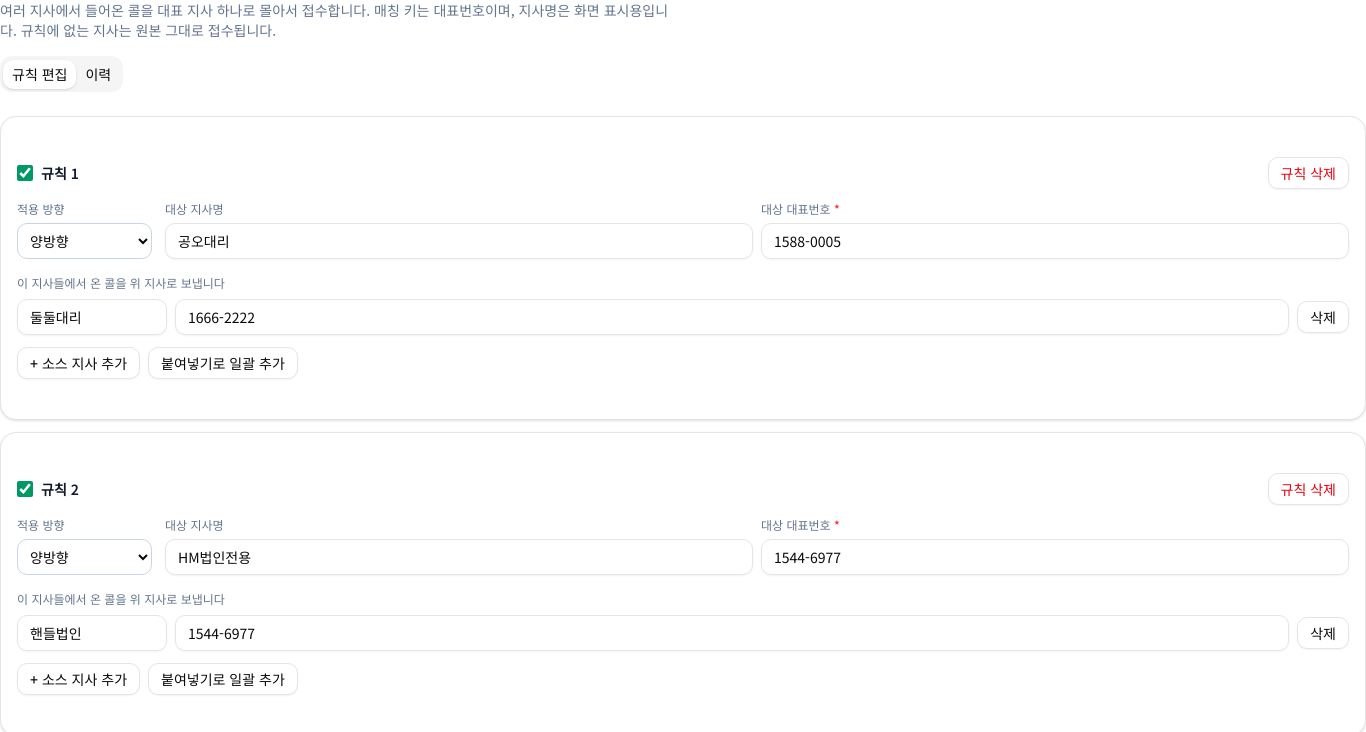
it: JisamapPage — 지사 관리자 › 규칙 간 소스 번호가 겹치면 오류를 띄우고 저장을 막는다
This screenshot has width=1366, height=732.
Replace the text in the field named "규칙 2 소스 1 번호" with "1666-2222". click: (732, 633)
box: 175,615 -> 1289,651
(page scrolled)
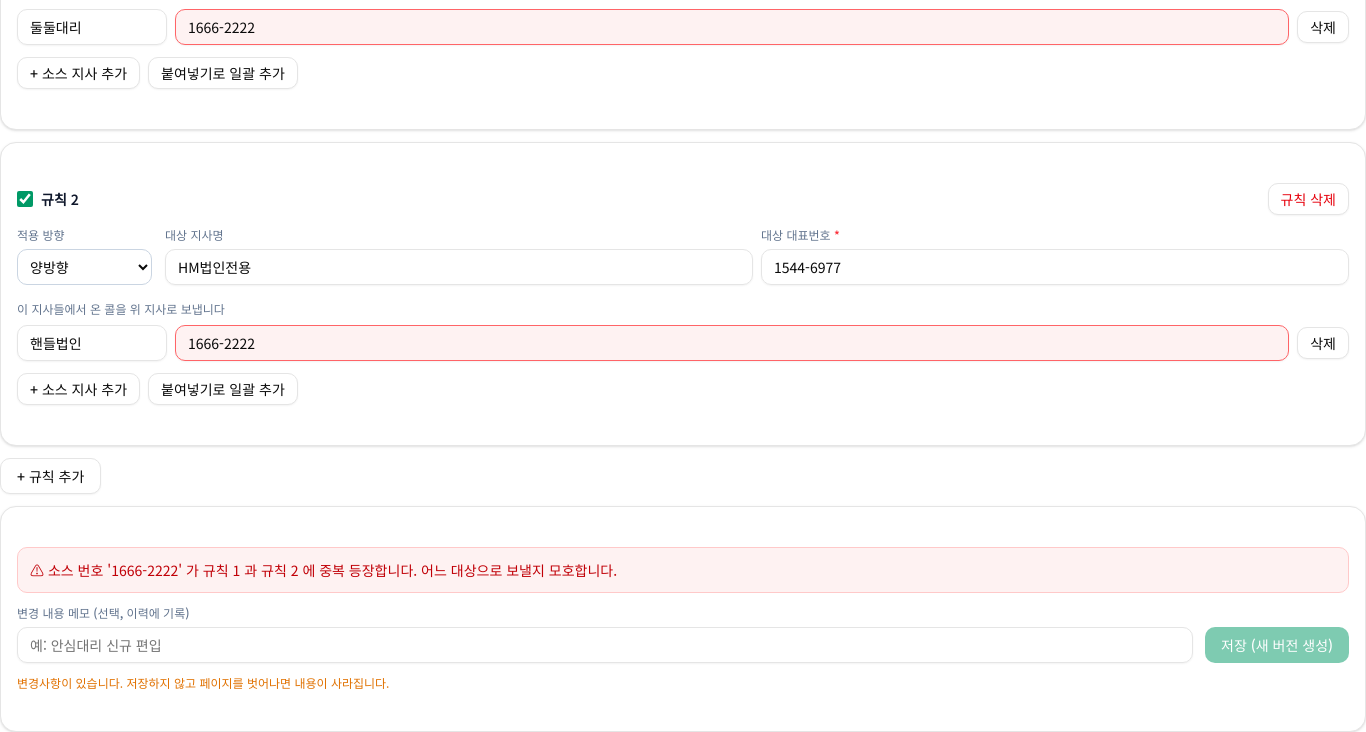
Expected: the button "저장 (새 버전 생성)" is disabled, 1205,627 -> 1349,663
Expected: the text "중복 등장합니다" is shown, 48,560 -> 617,580
